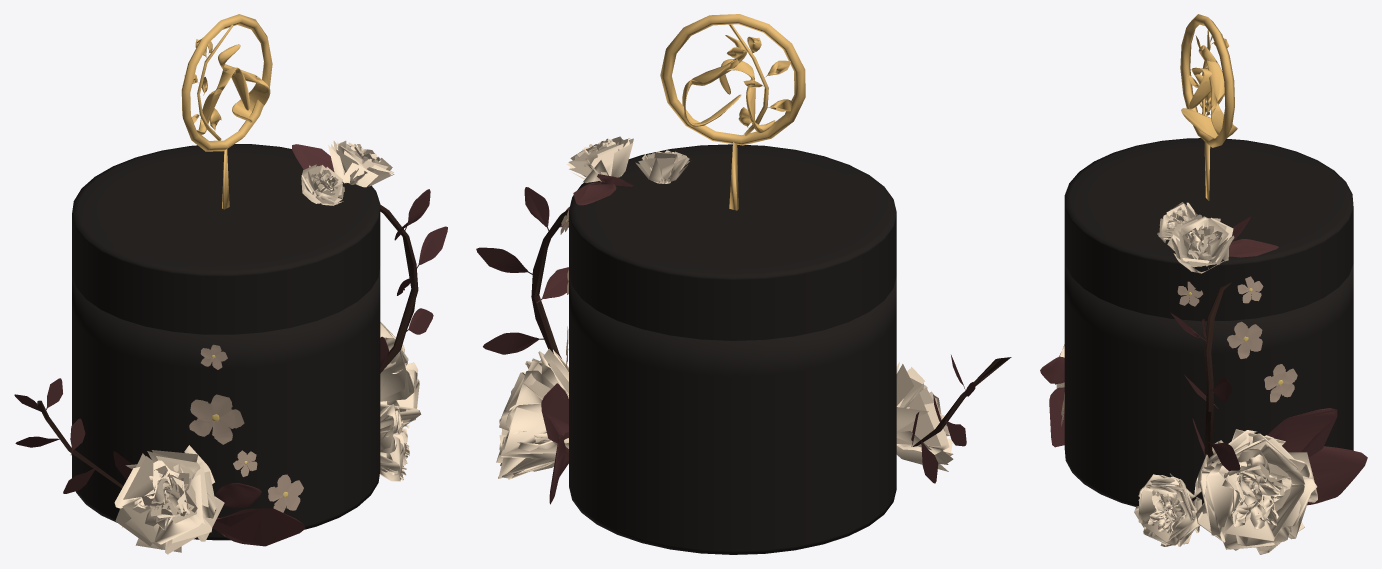
The model's file is 1-tier-black-roses-ring.glb.
3 views of the same model, side by side, from view 1: azimuth 30°, elevation 25°; view 2: azimuth 150°, elevation 25°; view 3: azimuth 270°, elevation 25° (orthographic). The views are drawn at different scales.
Parts seen in each view (by area): view 1: Cylinder.019, grid.039, Cylinder.017, Plane.083, Plane.074, Plane.075, grid.038, grid.041, grid.033, Sphere.050, grid.035, Sphere.054 (+2 smaller); view 2: Cylinder.019, Cylinder.017, grid.038, Plane.083, grid.039, grid.041, Plane.075, Plane.079, grid.035, Plane.086; view 3: Cylinder.019, grid.038, Cylinder.017, grid.033, grid.041, Plane.083, Plane.080, Plane.079, Sphere.057, Sphere.059, Plane.074, grid.035 (+4 smaller).
Boxes of the visible parts, x1,y1,x2,y2 form: Cylinder.019: (72,144,380,540); grid.039: (114,445,224,554); Cylinder.017: (181,14,272,209); Plane.083: (380,189,447,373); Plane.074: (213,508,305,546); Plane.075: (14,378,132,493); grid.038: (380,322,421,428); grid.041: (328,140,394,187); grid.033: (380,404,409,481); Sphere.050: (189,394,244,444); grid.035: (301,164,344,205); Sphere.054: (268,474,303,512); Cylinder.019: (569,144,896,554); Cylinder.017: (660,14,805,210); grid.038: (496,348,568,479); Plane.083: (476,187,569,358); grid.039: (896,362,953,471); grid.041: (566,136,633,182); Plane.075: (911,355,1011,483); Plane.079: (541,383,568,443); grid.035: (635,150,689,183); Plane.086: (573,182,616,205); Cylinder.019: (1064,138,1353,506); grid.038: (1194,429,1317,554); Cylinder.017: (1180,14,1237,200); grid.033: (1134,473,1201,546); grid.041: (1167,214,1234,273); Plane.083: (1170,282,1240,470); Plane.080: (1307,446,1367,505); Plane.079: (1267,408,1337,457); Sphere.057: (1227,321,1262,358); Sphere.059: (1264,364,1297,402); Plane.074: (1049,387,1064,447); grid.035: (1157,202,1199,242).
Size of the model in its own units: 4.49 by 4.46 by 2.9.
